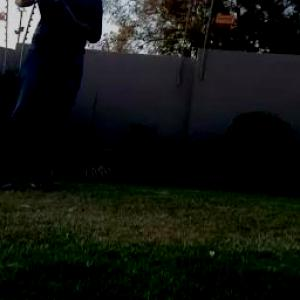follow: (0, 0, 106, 196)
